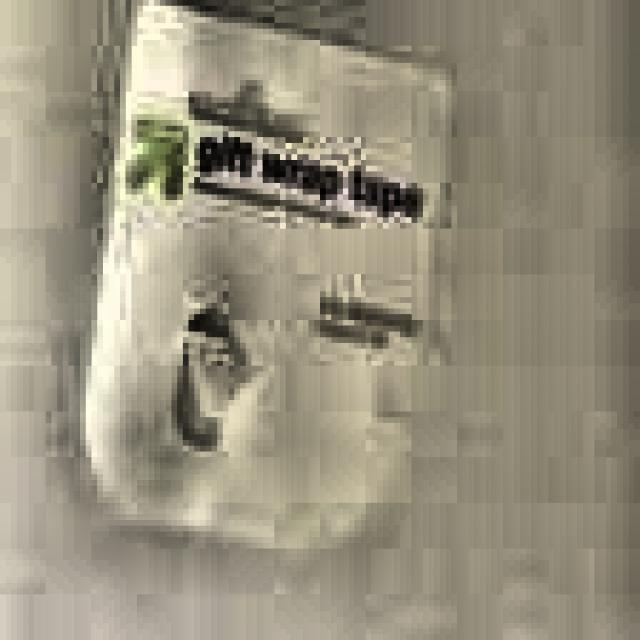paper: (84, 2, 456, 554)
